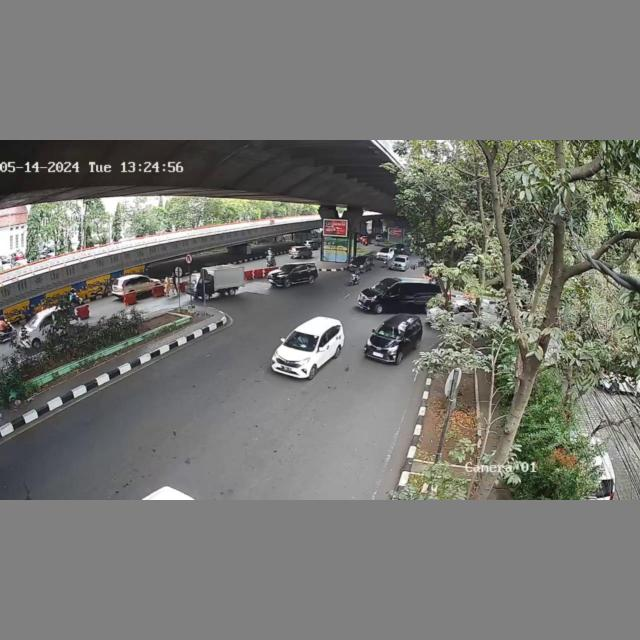windshield: (285, 330, 318, 351), (376, 322, 404, 341), (293, 335, 310, 346)
